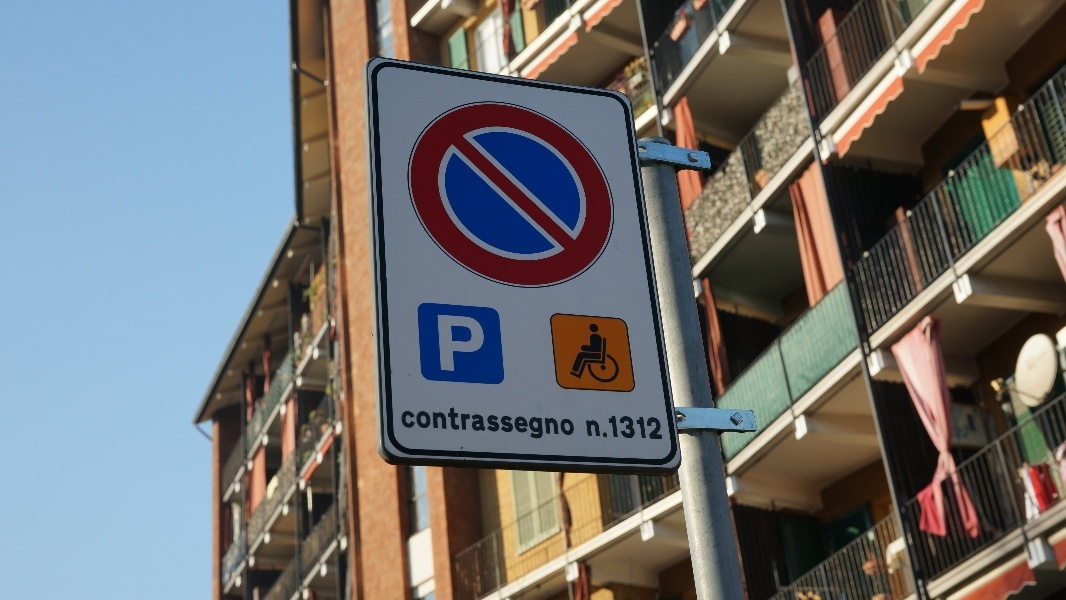text: (433, 311, 448, 374), (449, 311, 464, 374), (465, 311, 480, 374), (401, 404, 416, 442), (417, 404, 432, 442), (433, 404, 448, 442), (449, 404, 464, 442), (465, 404, 480, 442), (481, 404, 496, 442), (497, 404, 512, 442), (513, 404, 528, 442), (529, 404, 544, 442), (545, 404, 560, 442), (561, 404, 576, 442), (481, 311, 490, 374), (593, 415, 608, 442), (609, 415, 624, 442), (625, 415, 640, 442), (641, 415, 656, 442), (584, 415, 592, 442), (657, 415, 665, 442), (399, 404, 400, 442)
